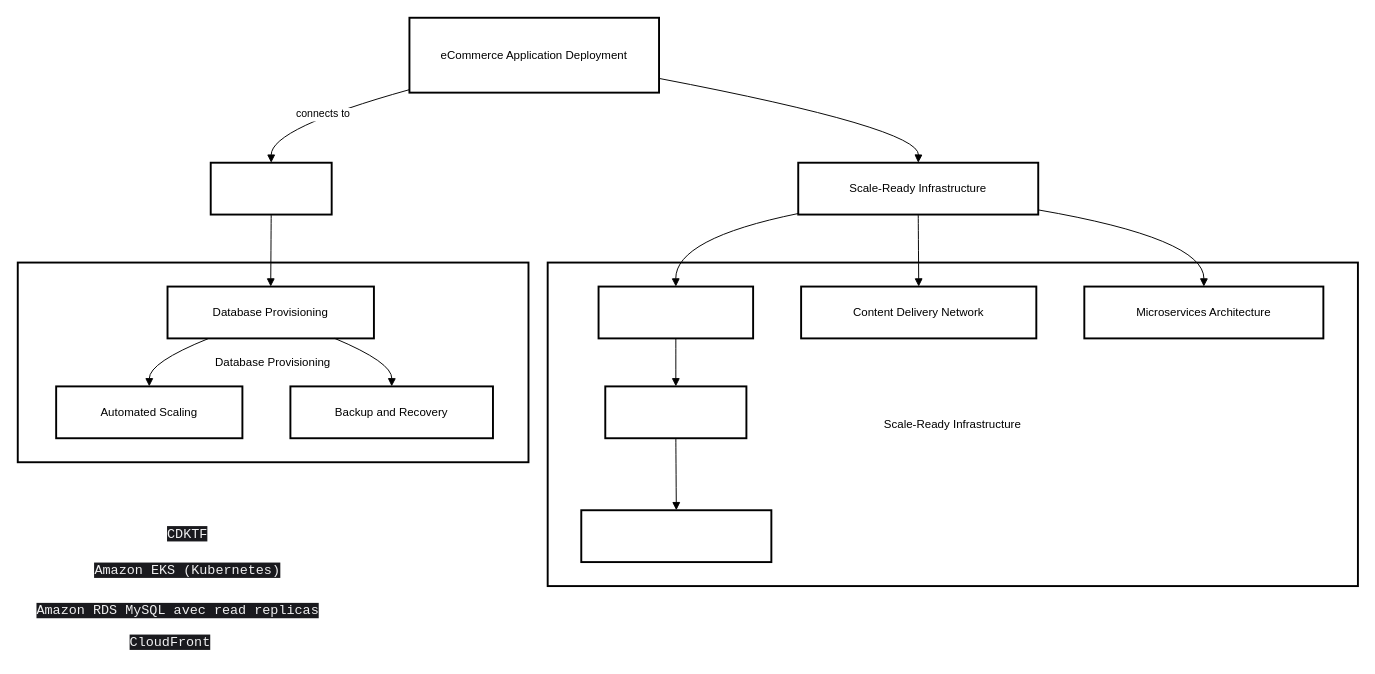
The diagram is 1375 pixels wide and 674 high, and some of its shapes have lost their labels. Here are the shapes that lost their labels. From the top down, the centre of each, then its label:
At pixel 270 188: "Database".
At pixel 675 312: "Load Balancer".
At pixel 675 412: "Web Servers".
At pixel 676 536: "Application Servers".
